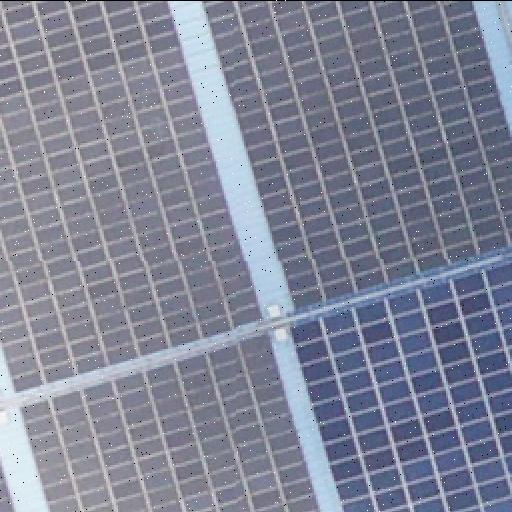solar-panel: (1, 0, 263, 392), (201, 1, 511, 311), (289, 262, 511, 512), (20, 332, 320, 512), (0, 460, 16, 512)
